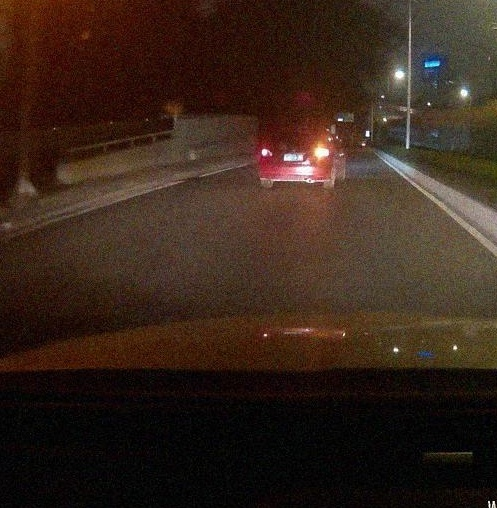L_light: (260, 148, 273, 157)
R_light: (313, 147, 330, 156)
T_light: (291, 127, 303, 130)
night-right: (258, 125, 333, 189)
